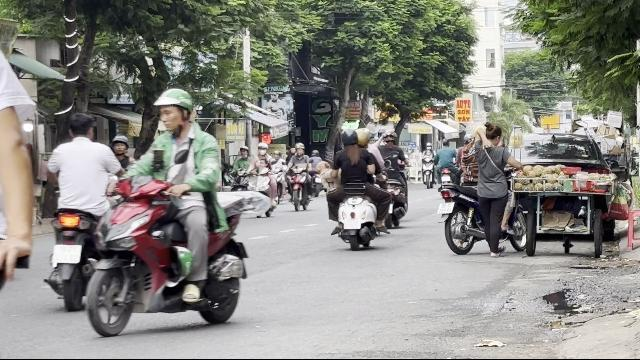helmet: (151, 88, 195, 134), (340, 125, 360, 147), (354, 127, 370, 146)
licenseplate: (54, 244, 80, 262), (438, 202, 454, 214), (344, 219, 361, 229)
motorcyclist: (84, 84, 252, 334), (42, 111, 128, 313), (324, 124, 386, 250)
nohelmet: (66, 111, 95, 140)
